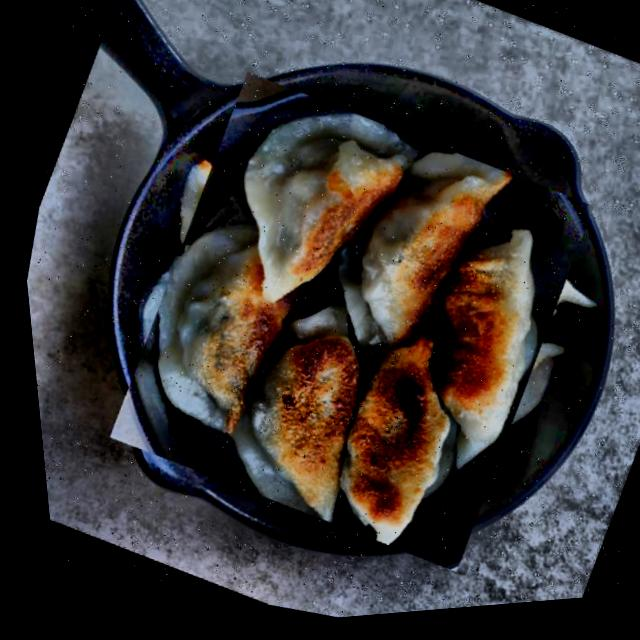Food: (51, 36, 637, 617)
